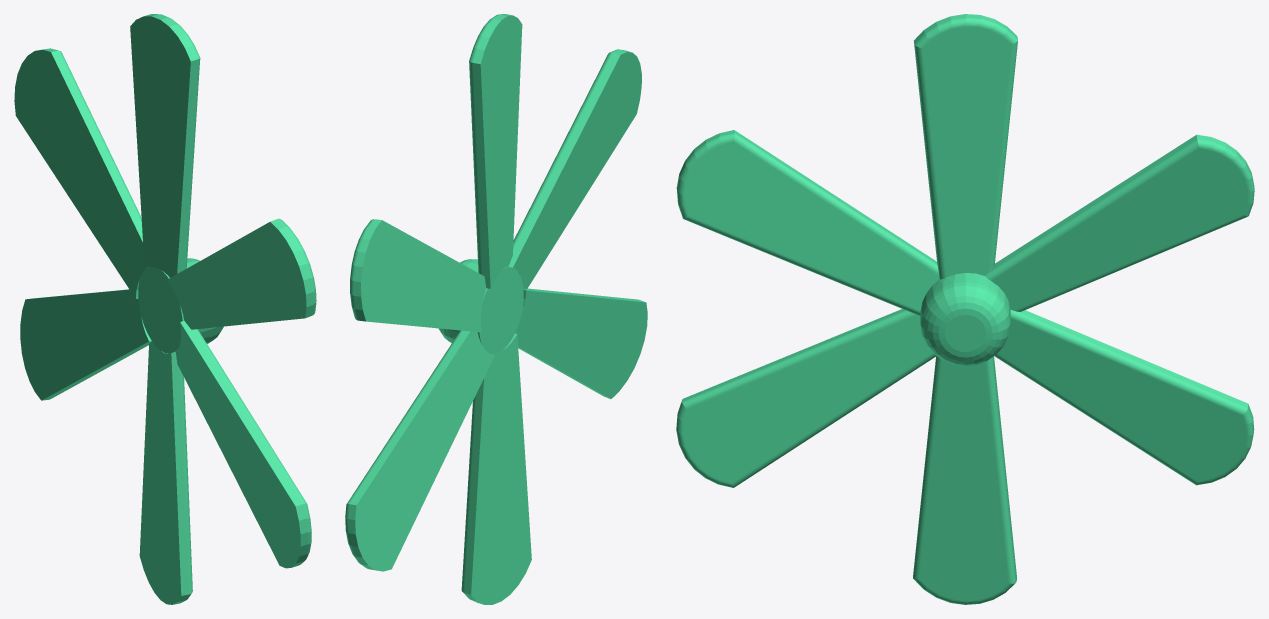
File: fana-transformed.glb
The picture shows the model from 3 angles, left to right: view 1: azimuth 30°, elevation 25°; view 2: azimuth 150°, elevation 25°; view 3: azimuth 270°, elevation 25°; orthographic projection.
Parts seen in each view (by area): view 1: fan1; view 2: fan1; view 3: fan1.
Part boxes in pixels (x1=…): fan1: x1=14, y1=14, x2=316, y2=604; fan1: x1=345, y1=14, x2=647, y2=604; fan1: x1=676, y1=14, x2=1254, y2=604.
Bounding box in the file's own units: 3.51 × 33.72 × 30.13.
